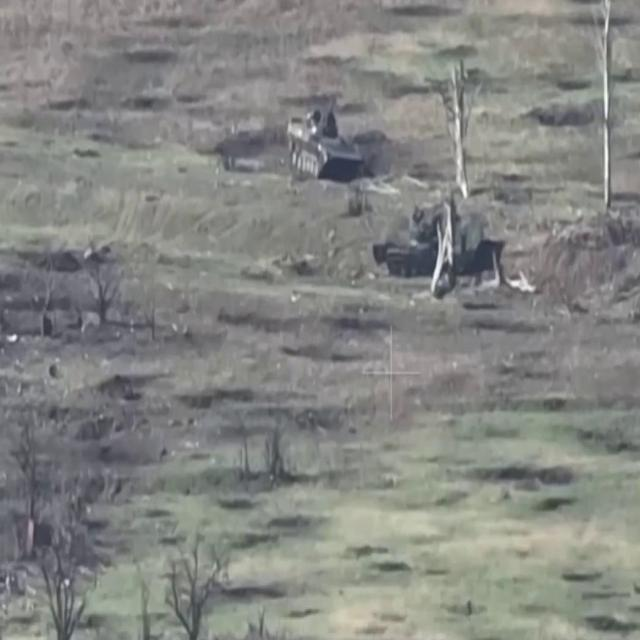AIFV: (285, 109, 365, 184)
MBT: (372, 198, 509, 283)
